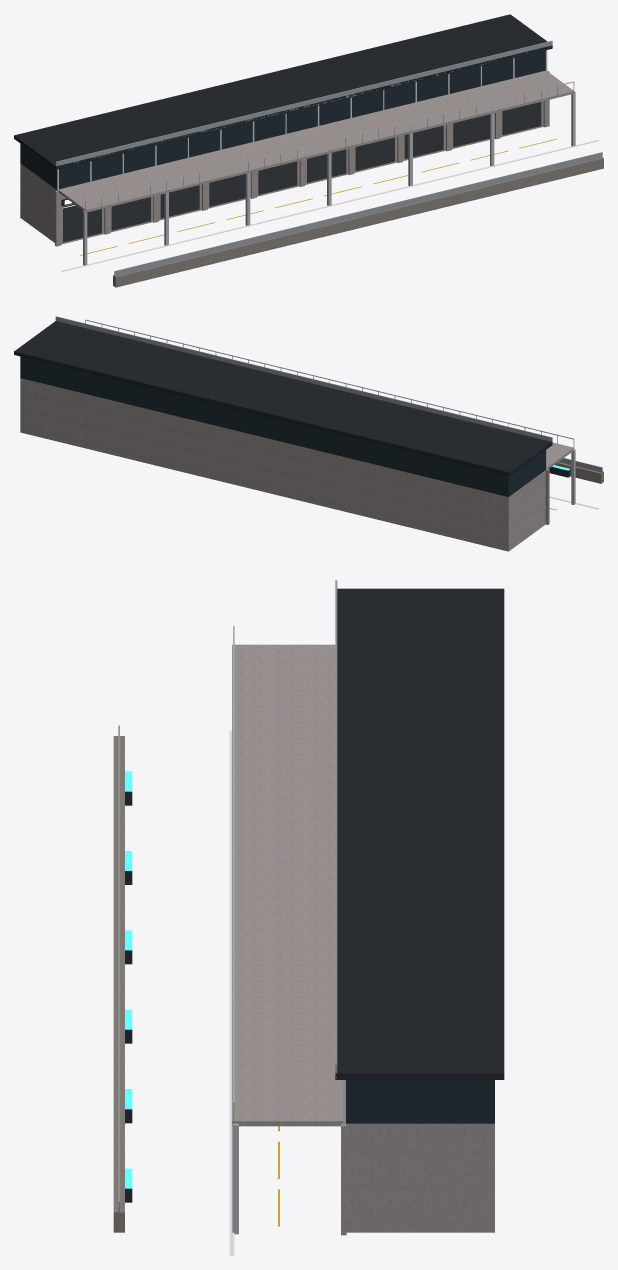
File: OT_PitBuilding.glb
3 renders of one model, top to bottom at view 1: azimuth 30°, elevation 25°; view 2: azimuth 150°, elevation 25°; view 3: azimuth 270°, elevation 25°, orthographic. The views are drawn at different scales.
Parts seen in each view (by area): view 1: OT_PitBuilding_DarkPanel__23262b, OT_PitBuilding_Panel, OT_PitBuilding_Glass__22303a, OT_PitBuilding_PitInside__34383f, OT_PitBuilding_Concrete, OT_PitBuilding_Galv__b4b9bf, OT_PitBuilding_RoofRail__9aa0a6, OT_PitBuilding_Fence__9aa0a6, OT_PitBuilding_PaintWhite__f0f0ee, OT_PitBuilding_Mullion__c9ccd1, OT_PitBuilding_PaintYellow__e8b81e; view 2: OT_PitBuilding_Panel, OT_PitBuilding_DarkPanel__23262b, OT_PitBuilding_Glass__22303a, OT_PitBuilding_RoofRail__9aa0a6, OT_PitBuilding_Galv__b4b9bf, OT_PitBuilding_Concrete; view 3: OT_PitBuilding_DarkPanel__23262b, OT_PitBuilding_Panel, OT_PitBuilding_Glass__22303a, OT_PitBuilding_Concrete, OT_PitBuilding_Galv__b4b9bf, OT_PitBuilding_PaintWhite__f0f0ee, OT_PitBuilding_RoofRail__9aa0a6, OT_PitBuilding_Screen__35c8ff, OT_PitBuilding_Fence__9aa0a6.
Part boxes in pixels (x1,y1,x2,y2): OT_PitBuilding_DarkPanel__23262b: (14,14,552,206); OT_PitBuilding_Panel: (20,70,574,246); OT_PitBuilding_Glass__22303a: (20,50,545,189); OT_PitBuilding_PitInside__34383f: (63,102,541,242); OT_PitBuilding_Concrete: (113,157,603,287); OT_PitBuilding_Galv__b4b9bf: (83,81,575,265); OT_PitBuilding_RoofRail__9aa0a6: (55,40,552,168); OT_PitBuilding_Fence__9aa0a6: (114,152,602,276); OT_PitBuilding_PaintWhite__f0f0ee: (61,140,599,271); OT_PitBuilding_Mullion__c9ccd1: (57,50,547,190); OT_PitBuilding_PaintYellow__e8b81e: (80,139,556,255); OT_PitBuilding_Panel: (20,378,574,551); OT_PitBuilding_DarkPanel__23262b: (14,321,552,475); OT_PitBuilding_Glass__22303a: (20,356,545,496); OT_PitBuilding_RoofRail__9aa0a6: (55,316,552,443); OT_PitBuilding_Galv__b4b9bf: (85,319,575,504); OT_PitBuilding_Concrete: (555,462,603,483); OT_PitBuilding_DarkPanel__23262b: (335,588,504,1079); OT_PitBuilding_Panel: (232,644,494,1235); OT_PitBuilding_Glass__22303a: (346,1080,494,1123); OT_PitBuilding_Concrete: (113,736,124,1232); OT_PitBuilding_Galv__b4b9bf: (232,625,238,1234); OT_PitBuilding_PaintWhite__f0f0ee: (229,731,234,1255); OT_PitBuilding_RoofRail__9aa0a6: (335,580,337,1078); OT_PitBuilding_Screen__35c8ff: (125,771,132,1188); OT_PitBuilding_Fence__9aa0a6: (118,725,119,1212).
Bounding box in the file's own units: 66 × 10.1 × 20.8.
20 materials, 2 textured.
